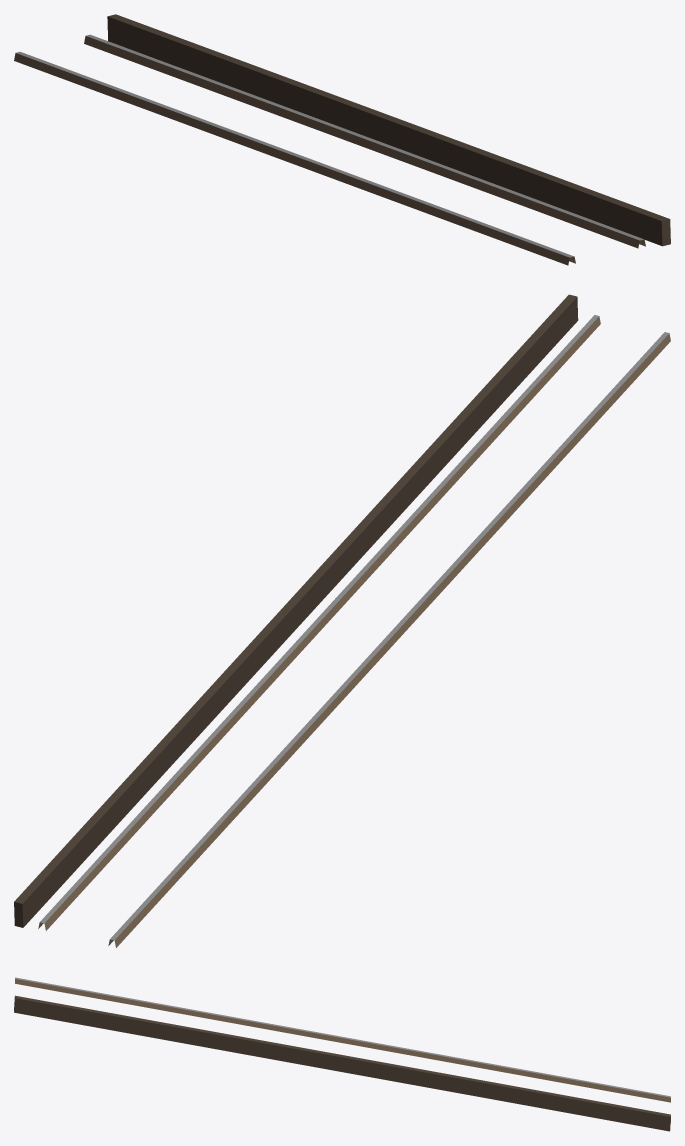
Rendered from SW_ENV_TrackRise_20m_Collision.fbx.
The picture shows the model from 3 angles, top to bottom: view 1: azimuth 30°, elevation 25°; view 2: azimuth 150°, elevation 25°; view 3: azimuth 270°, elevation 25°; orthographic projection. The views are drawn at different scales.
Parts seen in each view (by area): view 1: SW_ENV_TrackRise_20m_Collision; view 2: SW_ENV_TrackRise_20m_Collision; view 3: SW_ENV_TrackRise_20m_Collision.
Part boxes in pixels (left/top/right/bottom): SW_ENV_TrackRise_20m_Collision: left=14, top=14, right=670, bottom=265; SW_ENV_TrackRise_20m_Collision: left=14, top=294, right=670, bottom=947; SW_ENV_TrackRise_20m_Collision: left=14, top=977, right=670, bottom=1131.
Bounding box in the file's own units: 212 × 449 × 2003.
